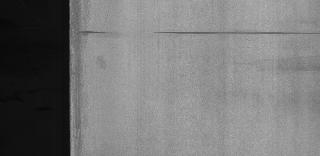scratches: (153, 29, 319, 39), (75, 28, 111, 38)
